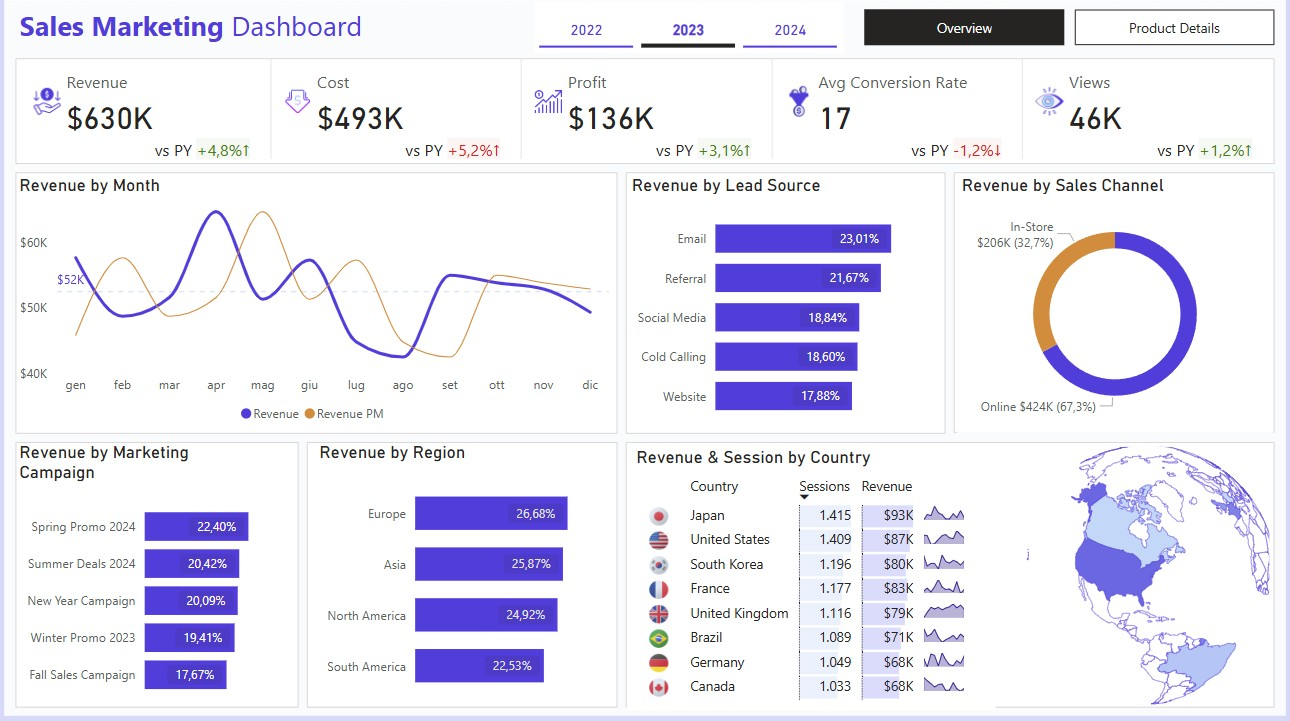

Layout of this report page (visuals, bound fields, positions):
{"tool":"powerbi","page":{"name":"Overview","canvas":[1280,720],"ordinal":0},"visuals":[{"type":"advancedSlicerVisual","fields":{"Values":["Calendar.Year"]},"box":[532.5,9.8,304.3,50.3],"z":0},{"type":"cardVisual","fields":{"Data":["All Measures.Revenue","All Measures.Cost","All Measures.Profit","All Measures.Avg Conversion Rate","All Measures.Views"]},"box":[22.5,59.9,1235.3,109.8],"z":1000},{"type":"lineChart","title":" Revenue by Month","fields":{"Y":["All Measures.Revenue","All Measures.Revenue PM"],"Category":["Calendar.Month"]},"box":[22.5,179.7,589,253.3],"z":2000},{"type":"clusteredBarChart","title":"Revenue by Lead Source","fields":{"Y":["All Measures.Revenue"],"Category":["dimLeadSource.Lead Source"]},"box":[623.9,179.7,312,253.3],"z":3000},{"type":"donutChart","fields":{"Y":["All Measures.Revenue"],"Category":["dimChannel.Sales Channel"]},"box":[947.1,179.7,310.7,253.3],"z":4000},{"type":"clusteredBarChart","title":"Revenue by Marketing Campaign","fields":{"Y":["All Measures.Revenue"],"Category":["dimMarketingCampaign.Marketing Campaign"]},"box":[22.5,441.7,278.3,263.3],"z":5000},{"type":"clusteredBarChart","title":"Revenue by Region","fields":{"Y":["All Measures.Revenue"],"Category":["dimCountry.Region"]},"box":[316.9,441.7,294.5,263.3],"z":6000},{"type":"tableEx","fields":{"Values":["dimCountry.flag","dimCountry.Country","All Measures.Sessions","All Measures.Revenue","All Measures.Revenue Sparkline"]},"box":[623.9,469.2,361.9,235.8],"z":7000},{"type":"shapeMap","fields":{"Value":["All Measures.Revenue"],"Category":["dimCountry.Country"]},"box":[986,442,272,263],"z":8000},{"type":"textbox","box":[22.5,10,398.1,49.9],"z":9000},{"type":"textbox","box":[623.9,441.7,272,31.2],"z":10000},{"type":"pageNavigator","box":[856.4,17.2,403.7,35.6],"z":11000}]}

Visuals, with their boxes in screenshot pixels (x1, y1, x2, y2), scaled from the page's 1280x720 canvas onto the 1290x721 screenshot:
advancedSlicerVisual - Calendar.Year: <bbox>537, 10, 843, 60</bbox>
cardVisual - All Measures.Revenue x All Measures.Cost: <bbox>23, 60, 1268, 170</bbox>
" Revenue by Month" lineChart: <bbox>23, 180, 616, 434</bbox>
"Revenue by Lead Source" clusteredBarChart: <bbox>629, 180, 943, 434</bbox>
donutChart - All Measures.Revenue x dimChannel.Sales Channel: <bbox>954, 180, 1268, 434</bbox>
"Revenue by Marketing Campaign" clusteredBarChart: <bbox>23, 442, 303, 706</bbox>
"Revenue by Region" clusteredBarChart: <bbox>319, 442, 616, 706</bbox>
tableEx - dimCountry.flag x dimCountry.Country: <bbox>629, 470, 994, 706</bbox>
shapeMap - All Measures.Revenue x dimCountry.Country: <bbox>994, 443, 1268, 706</bbox>
textbox: <bbox>23, 10, 424, 60</bbox>
textbox: <bbox>629, 442, 903, 474</bbox>
pageNavigator: <bbox>863, 17, 1270, 53</bbox>
